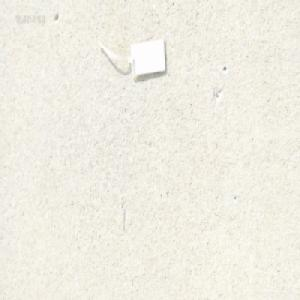LuggageTag: (95, 34, 167, 81)
